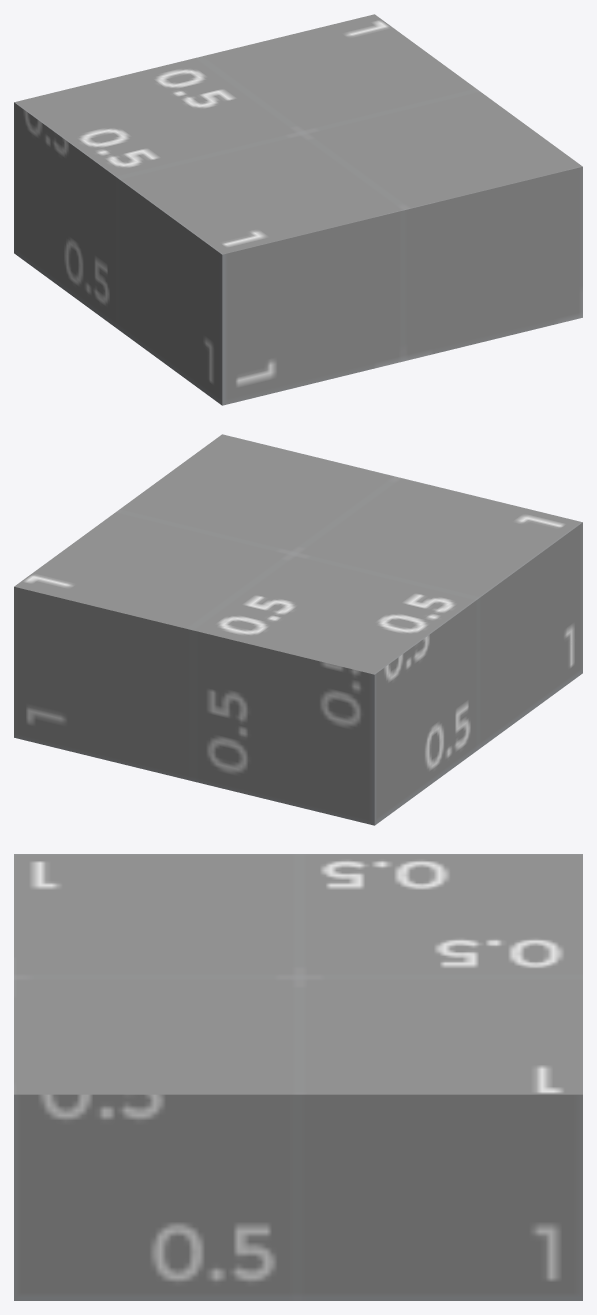
The picture shows the model from 3 angles, top to bottom: view 1: azimuth 30°, elevation 25°; view 2: azimuth 150°, elevation 25°; view 3: azimuth 270°, elevation 25°; orthographic projection. The views are drawn at different scales.
Visible parts, largest first — view 1: Cube_1_4; view 2: Cube_1_4; view 3: Cube_1_4.
Boxes of the visible parts, box(x1,y1,x2,y2) form: Cube_1_4: box(14, 14, 582, 405); Cube_1_4: box(14, 434, 582, 825); Cube_1_4: box(14, 854, 582, 1300).
Size of the model in its own units: 1 by 0.4 by 1.
